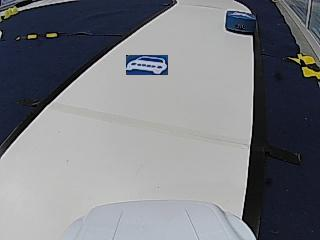prop: (225, 10, 255, 34)
